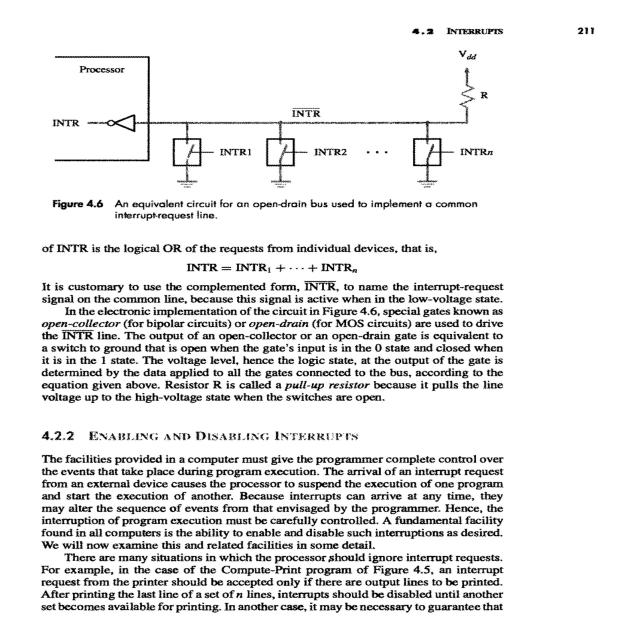diagram: (4, 33, 549, 235)
